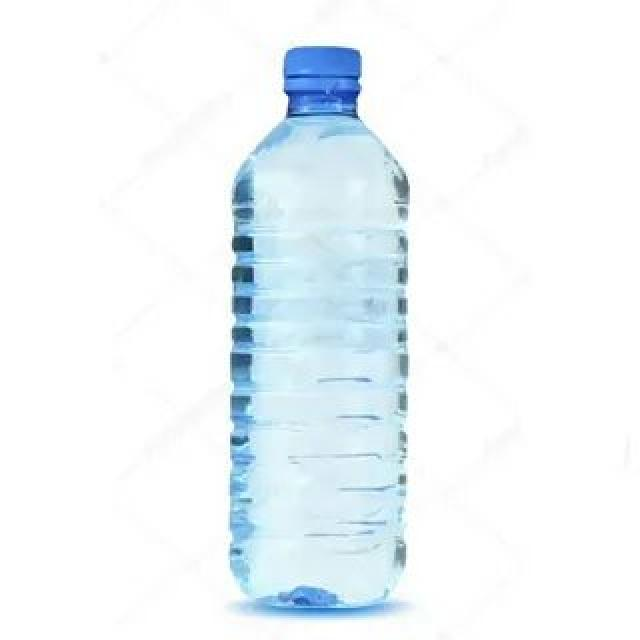blue: (232, 93, 408, 610)
